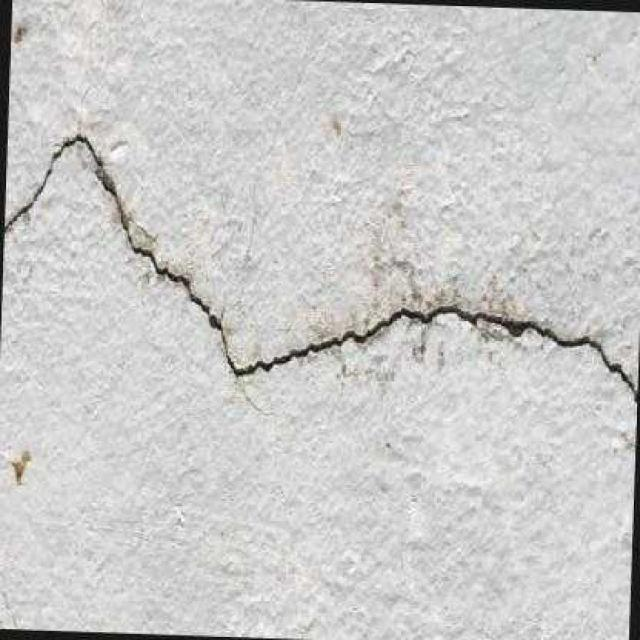D00: (3, 132, 638, 405)
